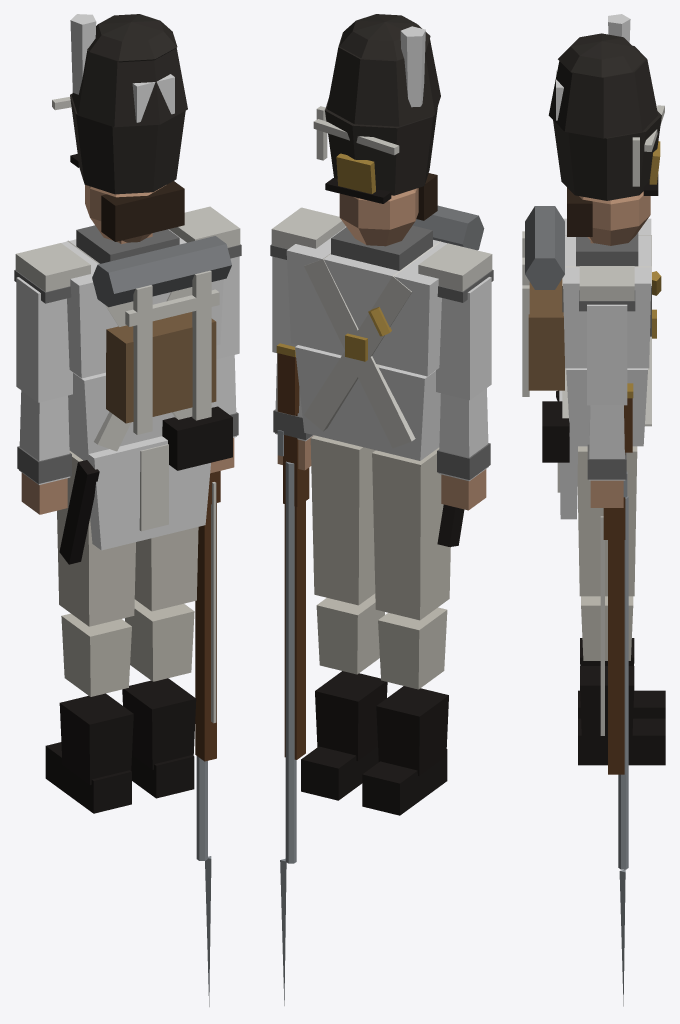
The model's file is soldier_c19_grenadier_lod0.glb.
The picture shows the model from 3 angles, left to right: view 1: azimuth 30°, elevation 25°; view 2: azimuth 150°, elevation 25°; view 3: azimuth 270°, elevation 25°; orthographic projection. The views are drawn at different scales.
Visible parts, largest first — view 1: c19_grenadier_lod0_static; view 2: c19_grenadier_lod0_static; view 3: c19_grenadier_lod0_static.
Boxes of the visible parts, x1,y1,x2,y2 form: c19_grenadier_lod0_static: [14, 14, 241, 1006]; c19_grenadier_lod0_static: [270, 14, 493, 1005]; c19_grenadier_lod0_static: [522, 14, 665, 1006].
Size of the model in its own units: 0.58 by 2.82 by 0.392.
